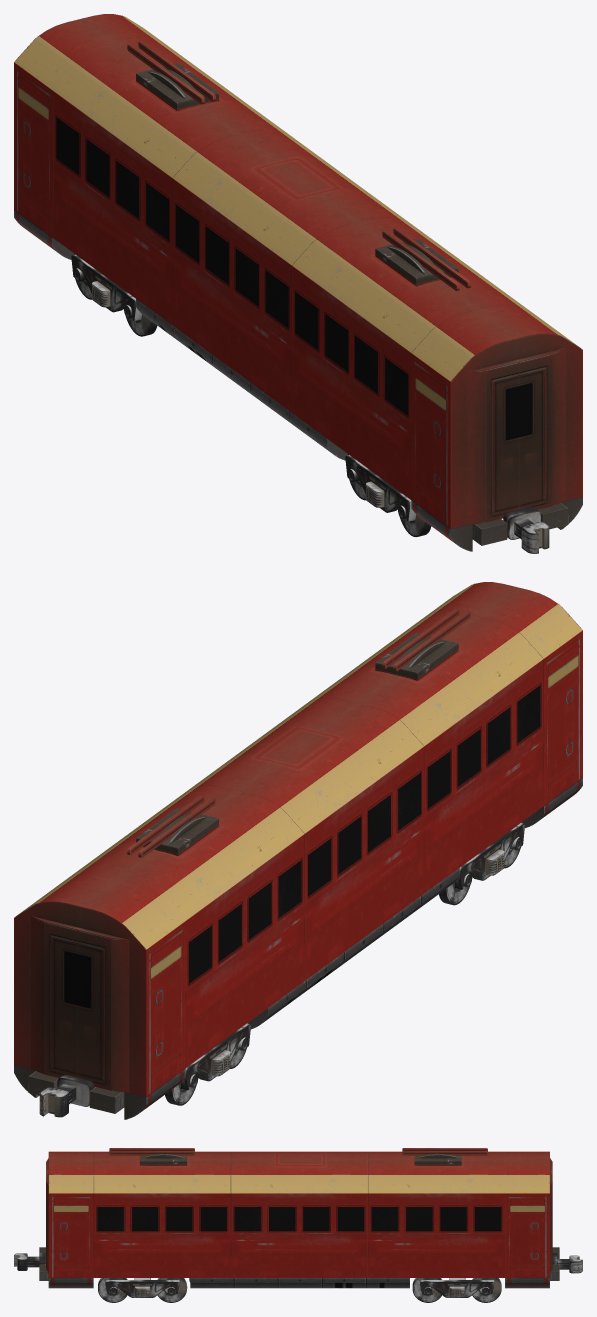
File: SM_TrainVagon.FBX
The picture shows the model from 3 angles, top to bottom: view 1: azimuth 30°, elevation 25°; view 2: azimuth 150°, elevation 25°; view 3: azimuth 270°, elevation 25°; orthographic projection. The views are drawn at different scales.
Visible parts, largest first — view 1: SM_TrainVagon; view 2: SM_TrainVagon; view 3: SM_TrainVagon.
Boxes of the visible parts, left/top/right/bottom form: SM_TrainVagon: left=14, top=14, right=582, bottom=553; SM_TrainVagon: left=14, top=582, right=582, bottom=1119; SM_TrainVagon: left=14, top=1148, right=582, bottom=1302.
Bounding box in the file's own units: 245 × 1588 × 428.
